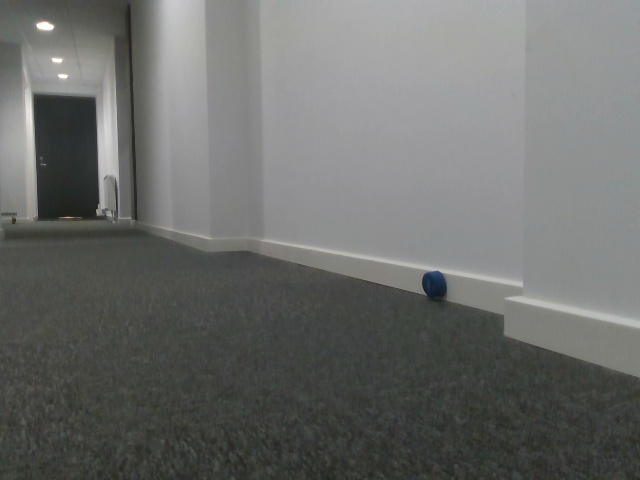alfa: (418, 269, 452, 302)
